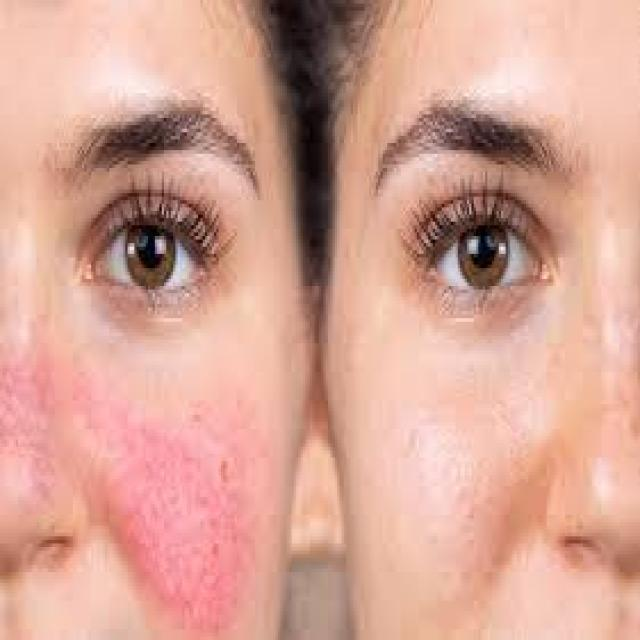Rosacea: (66, 362, 246, 636), (0, 336, 66, 503)
